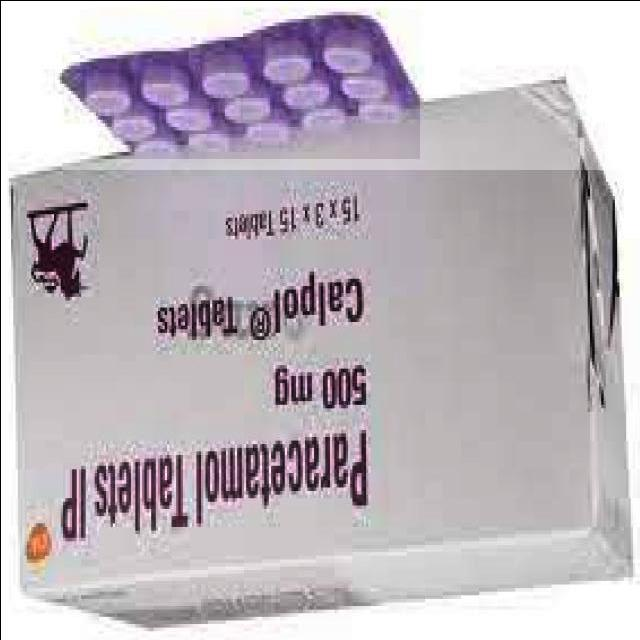authentic: (6, 168, 638, 630), (55, 7, 419, 158)
